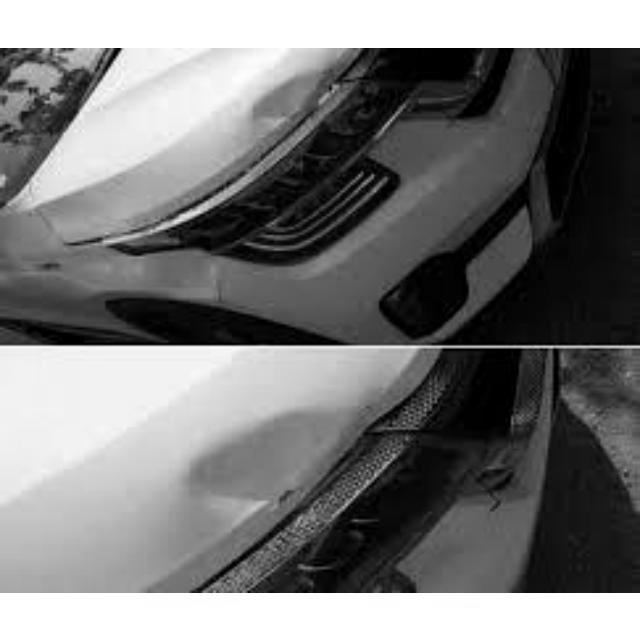bonnet-dent: (1, 345, 364, 589)
